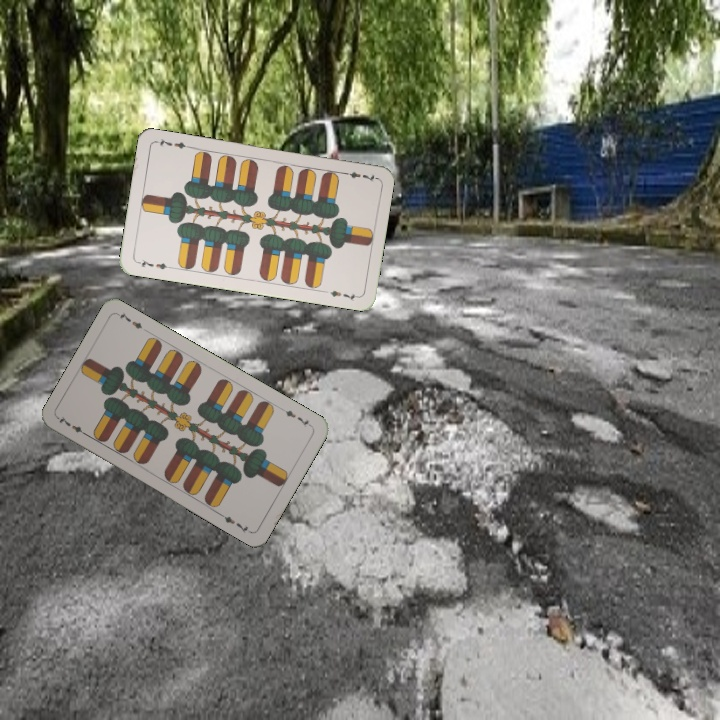E7: (54, 412, 91, 439), (277, 404, 315, 430), (338, 168, 379, 185), (133, 256, 174, 272)
